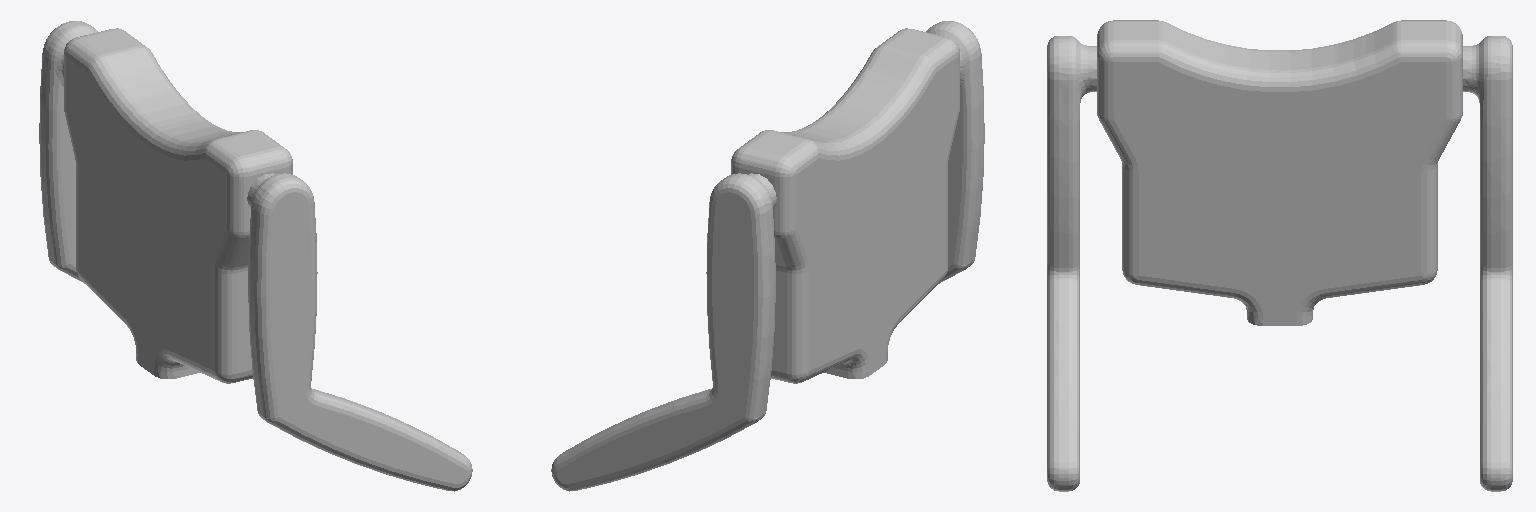
The robot description file, URDF, robot "bolt_humanoid":
<?xml version="1.0" ?>
<!-- =================================================================================== -->
<!-- |    This document was autogenerated by xacro from /tmp/pip-req-build-ylxi0jvw/src/robot_properties_bolt/resources/xacro/bolt_humanoid.urdf.xacro | -->
<!-- |    EDITING THIS FILE BY HAND IS NOT RECOMMENDED                                 | -->
<!-- =================================================================================== -->
<robot name="bolt_humanoid" xmlns:controller="http://playerstage.sourceforge.net/gazebo/xmlschema/#controller" xmlns:interface="http://playerstage.sourceforge.net/gazebo/xmlschema/#interface" xmlns:sensor="http://playerstage.sourceforge.net/gazebo/xmlschema/#sensor" xmlns:xacro="http://playerstage.sourceforge.net/gazebo/xmlschema/#interface">
  <link name="base_link">
    <!-- BASE LINK INERTIAL -->
    <inertial>
      <origin rpy="0 0 0" xyz="0 0 0"/>
      <mass value="0.61436936"/>
      <!-- The base is extremely symmetrical. -->
      <inertia ixx="0.00578574" ixy="0.0" ixz="0.0" iyy="0.01938108" iyz="0.0" izz="0.02476124"/>
    </inertial>
    <!-- BASE LINK VISUAL -->
    <visual>
      <origin rpy="0 0 0" xyz="0 0 0"/>
      <geometry>
        <mesh filename="robots/bolt/bolt_description/meshes/stl/bolt_body.stl"/>
      </geometry>
      <material name="grey">
        <color rgba="0.8 0.8 0.8 1.0"/>
      </material>
    </visual>
    <!-- BASE LINK COLLISION -->
    <collision>
      <origin rpy="0 0 0" xyz="0 0 0"/>
      <geometry>
        <mesh filename="robots/bolt/bolt_description/meshes/stl/bolt_body.stl"/>
      </geometry>
      <material name="grey">
        <color rgba="0.8 0.8 0.8 1.0"/>
      </material>
    </collision>
    <!-- Bullet specific paramters -->
    <contact>
      <lateral_friction value="1.0"/>
      <restitution value="0.5"/>
    </contact>
  </link>
  <!-- END BASE LINK -->
  <!-- WAIST link  -->
  <joint name="WR" type="revolute">
    <parent link="base_link"/>
    <child link="WAIST"/>
    <limit effort="1000" lower="-10" upper="10" velocity="1000"/>
    <!-- joints rotates around the z-axis -->
    <axis xyz="0 0 1"/>
    <!-- placement of the joint -->
    <origin rpy="0 0 0" xyz="0 0 0.076"/>
    <!-- pybullet simulation parameters -->
    <dynamics damping="0.0" friction="0.0"/>
  </joint>
  <link name="WAIST">
    <inertial>
      <!-- WAIST inertia -->
      <mass value="0.73260731"/>
      <origin rpy="0 0 0" xyz="-0.00013236 0.00599242 0.10576667"/>
      <inertia ixx="0.10576667" ixy="0.00000024" ixz="-0.00000150" iyy="0.00138427" iyz="-0.00019152" izz="0.00249732"/>
    </inertial>
    <!-- WAIST LINK VISUAL -->
    <visual>
      <origin rpy="0 0 0" xyz="0 0 0"/>
      <geometry>
        <mesh filename="robots/bolt/bolt_description/meshes/stl/bolt_waist.stl"/>
      </geometry>
      <material name="grey">
        <color rgba="0.8 0.8 0.8 1.0"/>
      </material>
    </visual>
    <!-- WAIST LINK COLLISION -->
    <collision>
      <origin rpy="0 0 0" xyz="0 0 0"/>
      <geometry>
        <mesh filename="robots/bolt/bolt_description/meshes/stl/bolt_waist.stl"/>
      </geometry>
      <material name="grey">
        <color rgba="0.8 0.8 0.8 1.0"/>
      </material>
    </collision>
    <!-- Bullet specific paramters -->
    <contact>
      <lateral_friction value=".0"/>
      <restitution value="0."/>
    </contact>
  </link>
  <!-- These are absolute distance value, the sign are decided below -->
  <!-- SFE is shoulder flexion-extension -->
  <joint name="L_SFE" type="revolute">
    <parent link="WAIST"/>
    <child link="L_ARM"/>
    <limit effort="1000" lower="-10" upper="10" velocity="1000"/>
    <!-- joints rotates around the y-axis -->
    <axis xyz="0 1 0"/>
    <origin rpy="0 0 0" xyz="0 0.11 0.16"/>
    <!-- pybullet simulation parameters -->
    <dynamics damping="0.0" friction="0.0"/>
  </joint>
  <link name="L_ARM">
    <!-- Left arm inertia -->
    <inertial>
      <mass value="0.12897855"/>
      <origin rpy="0 0 0" xyz="0.02610170 0.01954144 -0.10554314"/>
      <inertia ixx="0.00061875" ixy="0.00000154" ixz="-0.00027283" iyy="0.00081765" iyz="-0.00000622" izz="0.00020834"/>
    </inertial>
    <!-- ARM LINK VISUAL -->
    <visual>
      <origin rpy="0 0 0" xyz="0 0 0"/>
      <geometry>
        <mesh filename="robots/bolt/bolt_description/meshes/stl/bolt_shoulder_fe_left_side.stl"/>
      </geometry>
      <material name="grey">
        <color rgba="0.8 0.8 0.8 1.0"/>
      </material>
    </visual>
    <!-- ARM LINK COLLISION -->
    <collision>
      <origin rpy="0 0 0" xyz="0 0 0"/>
      <geometry>
        <mesh filename="robots/bolt/bolt_description/meshes/stl/bolt_shoulder_fe_left_side.stl"/>
      </geometry>
      <material name="grey">
        <color rgba="0.8 0.8 0.8 1.0"/>
      </material>
    </collision>
    <!-- Bullet specific paramters -->
    <contact>
      <lateral_friction value="0.0"/>
      <restitution value="0.0"/>
    </contact>
  </link>
  <!-- END ARM LINK -->
  <joint name="R_SFE" type="revolute">
    <parent link="WAIST"/>
    <child link="R_ARM"/>
    <limit effort="1000" lower="-10" upper="10" velocity="1000"/>
    <!-- joints rotates around the y-axis -->
    <axis xyz="0 1 0"/>
    <origin rpy="0 0 0" xyz="0 -0.11 0.16"/>
    <!-- pybullet simulation parameters -->
    <dynamics damping="0.0" friction="0.0"/>
  </joint>
  <link name="R_ARM">
    <!-- Right arm inertia -->
    <inertial>
      <mass value="0.12897855"/>
      opa
                
      <origin rpy="0 0 0" xyz="0.02610149 -0.01954144 -0.10554335"/>
      <inertia ixx="0.00061875" ixy="-0.00000154" ixz="-0.00027283" iyy="0.00081765" iyz="0.00000622" izz="0.00020834"/>
    </inertial>
    <!-- ARM LINK VISUAL -->
    <visual>
      <origin rpy="0 0 0" xyz="0 0 0"/>
      <geometry>
        <mesh filename="robots/bolt/bolt_description/meshes/stl/bolt_shoulder_fe_right_side.stl"/>
      </geometry>
      <material name="grey">
        <color rgba="0.8 0.8 0.8 1.0"/>
      </material>
    </visual>
    <!-- ARM LINK COLLISION -->
    <collision>
      <origin rpy="0 0 0" xyz="0 0 0"/>
      <geometry>
        <mesh filename="robots/bolt/bolt_description/meshes/stl/bolt_shoulder_fe_right_side.stl"/>
      </geometry>
      <material name="grey">
        <color rgba="0.8 0.8 0.8 1.0"/>
      </material>
    </collision>
    <!-- Bullet specific paramters -->
    <contact>
      <lateral_friction value="0.0"/>
      <restitution value="0.0"/>
    </contact>
  </link>
  <!-- END ARM LINK -->
  <!--xacro:property name="base_2_HAA_x" value="${2.45656 * 0.001}" />
  <xacro:property name="base_2_HAA_y" value="${63.6 * 0.001}" />
  <xacro:property name="base_2_HAA_z" value="${33.0809 * 0.001}" /-->
  <joint name="FL_HAA" type="revolute">
    <parent link="base_link"/>
    <child link="FL_SHOULDER"/>
    <limit effort="1000" lower="-10" upper="10" velocity="1000"/>
    <!-- joints rotates around the x-axis -->
    <axis xyz="1 0 0"/>
    <origin rpy="0 0 0" xyz="0.0 0.0636 0"/>
    <!--xacro:unless value="${is_right}">
        <origin xyz="${base_2_HAA_x} ${base_2_HAA_y + 0.0007888} ${-base_2_HAA_z}" rpy="0 0 0" />
      </xacro:unless>
      <xacro:if value="${is_right}">
        <origin xyz="${base_2_HAA_x} ${-base_2_HAA_y + 0.0007888} ${-base_2_HAA_z}" rpy="0 0 0" />
      </xacro:if-->
    <!-- pybullet simulation parameters -->
    <dynamics damping="0.0" friction="0.0"/>
  </joint>
  <link name="FL_SHOULDER">
    <!-- TODO: Update inertias and add visuals for link. -->
    <!-- create a dummy shoulder link to join the two joints -->
    <inertial>
      <!-- Left upper leg inertia -->
      <mass value="0.14004265"/>
      <origin rpy="0 0 0" xyz="0.01708256 -0.00446892 -0.01095830"/>
      <inertia ixx="0.00007443" ixy="0.00000148" ixz="0.00002154" iyy="0.00013847" iyz="-0.00001096" izz="0.00009002"/>
    </inertial>
    <!-- HIP LEG LINK VISUAL -->
    <visual>
      <origin rpy="0 0 0" xyz="0 0 0"/>
      <geometry>
        <mesh filename="robots/bolt/bolt_description/meshes/stl/bolt_hip_fe_left_side.stl"/>
      </geometry>
      <material name="grey">
        <color rgba="0.8 0.8 0.8 1.0"/>
      </material>
    </visual>
    <!-- UPPER LEG LINK COLLISION -->
    <collision>
      <origin rpy="0 0 0" xyz="0 0 0"/>
      <geometry>
        <mesh filename="robots/bolt/bolt_description/meshes/stl/bolt_hip_fe_left_side.stl"/>
      </geometry>
      <material name="grey">
        <color rgba="0.8 0.8 0.8 1.0"/>
      </material>
    </collision>
    <!-- Bullet specific paramters -->
    <contact>
      <lateral_friction value="1.0"/>
      <restitution value="0.5"/>
    </contact>
  </link>
  <joint name="FL_HFE" type="revolute">
    <parent link="FL_SHOULDER"/>
    <child link="FL_UPPER_LEG"/>
    <limit effort="1000" lower="-10" upper="10" velocity="1000"/>
    <!-- joints rotates around the y-axis -->
    <axis xyz="0 1 0"/>
    <origin rpy="0 0 0" xyz="0 0.0145 -0.0386"/>
    <!-- pybullet simulation parameters -->
    <dynamics damping="0.0" friction="0.0"/>
  </joint>
  <link name="FL_UPPER_LEG">
    <!-- Left upper leg inertia -->
    <inertial>
      <origin rpy="0 0 0" xyz="0.00001377 0.01935853 -0.11870700"/>
      <mass value="0.14853845"/>
      <inertia ixx="0.00041107" ixy="0.00000000" ixz="0.00000009" iyy="0.00041193" iyz="-0.00004671" izz="0.00003024"/>
    </inertial>
    <!-- UPPER LEG LINK VISUAL -->
    <visual>
      <origin rpy="0 0 0" xyz="0 0 0"/>
      <geometry>
        <mesh filename="robots/bolt/bolt_description/meshes/stl/upper_leg_200mm_left_side.stl"/>
      </geometry>
      <material name="grey">
        <color rgba="0.8 0.8 0.8 1.0"/>
      </material>
    </visual>
    <!-- UPPER LEG LINK COLLISION -->
    <collision>
      <origin rpy="0 0 0" xyz="0 0 0"/>
      <geometry>
        <mesh filename="robots/bolt/bolt_description/meshes/stl/upper_leg_200mm_left_side.stl"/>
      </geometry>
      <material name="grey">
        <color rgba="0.8 0.8 0.8 1.0"/>
      </material>
    </collision>
    <!-- Bullet specific paramters -->
    <contact>
      <lateral_friction value="1.0"/>
      <restitution value="0.5"/>
    </contact>
  </link>
  <!-- END UPPER LEG LINK -->
  <!-- KFE: Joint between the upper leg and the lower leg -->
  <joint name="FL_KFE" type="revolute">
    <parent link="FL_UPPER_LEG"/>
    <child link="FL_LOWER_LEG"/>
    <limit effort="1000" lower="-10" upper="10" velocity="1000"/>
    <!-- joints rotates around the y-axis -->
    <axis xyz="0 1 0"/>
    <origin rpy="0 0 0" xyz="0 0.0374 -0.2"/>
    <!-- pybullet simulation parameters -->
    <dynamics damping="0.0" friction="0.0"/>
  </joint>
  <link name="FL_LOWER_LEG">
    <!-- Left lower leg inertia -->
    <inertial>
      <origin rpy="0 0 0" xyz="0.0 0.00836718 -0.11591877"/>
      <mass value="0.03117243"/>
      <inertia ixx="0.00011487" ixy="0.00000000" ixz="0.00000000" iyy="0.00011556" iyz="-0.00000190" izz="0.00000220"/>
    </inertial>
    <!-- LOWER LEG LINK VISUAL -->
    <visual>
      <origin rpy="0 0 0" xyz="0 0 0"/>
      <geometry>
        <mesh filename="robots/bolt/bolt_description/meshes/stl/lower_leg_200mm_left_side.stl"/>
      </geometry>
      <material name="grey">
        <color rgba="0.8 0.8 0.8 1.0"/>
      </material>
    </visual>
    <!-- LOWER LEG LINK COLLISION -->
    <collision>
      <origin rpy="0 0 0" xyz="0 0 0"/>
      <geometry>
        <mesh filename="robots/bolt/bolt_description/meshes/stl/lower_leg_200mm_left_side.stl"/>
      </geometry>
      <material name="grey">
        <color rgba="0.8 0.8 0.8 1.0"/>
      </material>
    </collision>
    <!-- Bullet specific paramters -->
    <contact>
      <lateral_friction value="1.0"/>
      <restitution value="0.5"/>
    </contact>
  </link>
  <!-- END LOWER LEG LINK -->
  <!-- ANKLE: Joint between the lower leg and the foot -->
  <joint name="FL_ANKLE" type="fixed">
    <parent link="FL_LOWER_LEG"/>
    <child link="FL_FOOT"/>
    <origin rpy="0 0 0" xyz="0 0.008 -0.2"/>
    <!-- joints rotates around the y-axis -->
    <axis xyz="0 1 0"/>
    <!-- Limits (usefull?) -->
    <limit effort="1000" lower="-10" upper="10" velocity="1000"/>
    <!-- pybullet simulation parameters -->
    <dynamics damping="0.0" friction="0.0"/>
  </joint>
  <link name="FL_FOOT">
    <!-- FOOT INERTIAL -->
    <!-- This link is symmetrical left or right -->
    <inertial>
      <origin rpy="0 0 0" xyz="0 0 0.00035767"/>
      <mass value="0.00010"/>
      <inertia ixx="0.00000057" ixy="0.0" ixz="0.0" iyy="0.00000084" iyz="0.0" izz="0.00000053"/>
    </inertial>
    <!-- FOOT VISUAL -->
    <visual>
      <origin rpy="0 2.35 0." xyz="0 0 -0.01"/>
      <geometry>
        <mesh filename="robots/bolt/bolt_description/meshes/stl/bolt_foot.stl"/>
      </geometry>
      <material name="grey">
        <color rgba="0.8 0.8 0.8 1.0"/>
      </material>
    </visual>
    <!-- FOOT COLLISION -->
    <collision>
      <origin rpy="0 2.35 0." xyz="0 0 -0.01"/>
      <geometry>
        <mesh filename="robots/bolt/bolt_description/meshes/stl/bolt_foot.stl"/>
      </geometry>
      <material name="grey">
        <color rgba="0.8 0.8 0.8 1.0"/>
      </material>
    </collision>
    <!-- Bullet specific paramters -->
    <contact>
      <lateral_friction value="4.0"/>
      <restitution value="0.0"/>
    </contact>
  </link>
  <!-- END FOOT LINK -->
  <joint name="FR_HAA" type="revolute">
    <parent link="base_link"/>
    <child link="FR_SHOULDER"/>
    <limit effort="1000" lower="-10" upper="10" velocity="1000"/>
    <!-- joints rotates around the x-axis -->
    <axis xyz="1 0 0"/>
    <origin rpy="0 0 0" xyz="0.0 -0.0636 0"/>
    <!--xacro:unless value="${is_right}">
        <origin xyz="${base_2_HAA_x} ${base_2_HAA_y + 0.0007888} ${-base_2_HAA_z}" rpy="0 0 0" />
      </xacro:unless>
      <xacro:if value="${is_right}">
        <origin xyz="${base_2_HAA_x} ${-base_2_HAA_y + 0.0007888} ${-base_2_HAA_z}" rpy="0 0 0" />
      </xacro:if-->
    <!-- pybullet simulation parameters -->
    <dynamics damping="0.0" friction="0.0"/>
  </joint>
  <link name="FR_SHOULDER">
    <!-- TODO: Update inertias and add visuals for link. -->
    <!-- create a dummy shoulder link to join the two joints -->
    <inertial>
      <!-- Right upper leg inertia -->
      <mass value="0.14004412"/>
      <origin rpy="0 0 0" xyz="0.01708233 0.00447099 -0.01095846"/>
      <inertia ixx="0.00007442" ixy="-0.00000148" ixz="0.00002154" iyy="0.00013848" iyz="0.00001095" izz="0.00009001"/>
    </inertial>
    <!-- HIP LEG LINK VISUAL -->
    <visual>
      <origin rpy="0 0 0" xyz="0 0 0"/>
      <geometry>
        <mesh filename="robots/bolt/bolt_description/meshes/stl/bolt_hip_fe_right_side.stl"/>
      </geometry>
      <material name="grey">
        <color rgba="0.8 0.8 0.8 1.0"/>
      </material>
    </visual>
    <!-- UPPER LEG LINK COLLISION -->
    <collision>
      <origin rpy="0 0 0" xyz="0 0 0"/>
      <geometry>
        <mesh filename="robots/bolt/bolt_description/meshes/stl/bolt_hip_fe_right_side.stl"/>
      </geometry>
      <material name="grey">
        <color rgba="0.8 0.8 0.8 1.0"/>
      </material>
    </collision>
    <!-- Bullet specific paramters -->
    <contact>
      <lateral_friction value="1.0"/>
      <restitution value="0.5"/>
    </contact>
  </link>
  <joint name="FR_HFE" type="revolute">
    <parent link="FR_SHOULDER"/>
    <child link="FR_UPPER_LEG"/>
    <limit effort="1000" lower="-10" upper="10" velocity="1000"/>
    <!-- joints rotates around the y-axis -->
    <axis xyz="0 1 0"/>
    <origin rpy="0 0 0" xyz="0 -0.0145 -0.0386"/>
    <!-- pybullet simulation parameters -->
    <dynamics damping="0.0" friction="0.0"/>
  </joint>
  <link name="FR_UPPER_LEG">
    <!-- Right upper leg inertia -->
    <inertial>
      <origin rpy="0 0 0" xyz="-0.00001377 -0.01935853 -0.11870700"/>
      <mass value="0.14853845"/>
      <inertia ixx="0.00041107" ixy="0.00000000" ixz="-0.00000009" iyy="0.00041193" iyz="0.00004671" izz="0.00003024"/>
    </inertial>
    <!-- UPPER LEG LINK VISUAL -->
    <visual>
      <origin rpy="0 0 0" xyz="0 0 0"/>
      <geometry>
        <mesh filename="robots/bolt/bolt_description/meshes/stl/upper_leg_200mm_right_side.stl"/>
      </geometry>
      <material name="grey">
        <color rgba="0.8 0.8 0.8 1.0"/>
      </material>
    </visual>
    <!-- UPPER LEG LINK COLLISION -->
    <collision>
      <origin rpy="0 0 0" xyz="0 0 0"/>
      <geometry>
        <mesh filename="robots/bolt/bolt_description/meshes/stl/upper_leg_200mm_right_side.stl"/>
      </geometry>
      <material name="grey">
        <color rgba="0.8 0.8 0.8 1.0"/>
      </material>
    </collision>
    <!-- Bullet specific paramters -->
    <contact>
      <lateral_friction value="1.0"/>
      <restitution value="0.5"/>
    </contact>
  </link>
  <!-- END UPPER LEG LINK -->
  <!-- KFE: Joint between the upper leg and the lower leg -->
  <joint name="FR_KFE" type="revolute">
    <parent link="FR_UPPER_LEG"/>
    <child link="FR_LOWER_LEG"/>
    <limit effort="1000" lower="-10" upper="10" velocity="1000"/>
    <!-- joints rotates around the y-axis -->
    <axis xyz="0 1 0"/>
    <origin rpy="0 0 0" xyz="0 -0.0374 -0.2"/>
    <!-- pybullet simulation parameters -->
    <dynamics damping="0.0" friction="0.0"/>
  </joint>
  <link name="FR_LOWER_LEG">
    <!-- Right lower leg inertia -->
    <inertial>
      <origin rpy="0 0 0" xyz="0.0 -0.00836718 -0.11591877"/>
      <mass value="0.03117243"/>
      <inertia ixx="0.00011487" ixy="0.00000000" ixz="0.00000000" iyy="0.00011556" iyz="0.00000190" izz="0.00000220"/>
    </inertial>
    <!-- LOWER LEG LINK VISUAL -->
    <visual>
      <origin rpy="0 0 0" xyz="0 0 0"/>
      <geometry>
        <mesh filename="robots/bolt/bolt_description/meshes/stl/lower_leg_200mm_right_side.stl"/>
      </geometry>
      <material name="grey">
        <color rgba="0.8 0.8 0.8 1.0"/>
      </material>
    </visual>
    <!-- LOWER LEG LINK COLLISION -->
    <collision>
      <origin rpy="0 0 0" xyz="0 0 0"/>
      <geometry>
        <mesh filename="robots/bolt/bolt_description/meshes/stl/lower_leg_200mm_right_side.stl"/>
      </geometry>
      <material name="grey">
        <color rgba="0.8 0.8 0.8 1.0"/>
      </material>
    </collision>
    <!-- Bullet specific paramters -->
    <contact>
      <lateral_friction value="1.0"/>
      <restitution value="0.5"/>
    </contact>
  </link>
  <!-- END LOWER LEG LINK -->
  <!-- ANKLE: Joint between the lower leg and the foot -->
  <joint name="FR_ANKLE" type="fixed">
    <parent link="FR_LOWER_LEG"/>
    <child link="FR_FOOT"/>
    <origin rpy="0 0 0" xyz="0 -0.008 -0.2"/>
    <!-- joints rotates around the y-axis -->
    <axis xyz="0 1 0"/>
    <!-- Limits (usefull?) -->
    <limit effort="1000" lower="-10" upper="10" velocity="1000"/>
    <!-- pybullet simulation parameters -->
    <dynamics damping="0.0" friction="0.0"/>
  </joint>
  <link name="FR_FOOT">
    <!-- FOOT INERTIAL -->
    <!-- This link is symmetrical left or right -->
    <inertial>
      <origin rpy="0 0 0" xyz="0 0 0.00035767"/>
      <mass value="0.00010"/>
      <inertia ixx="0.00000057" ixy="0.0" ixz="0.0" iyy="0.00000084" iyz="0.0" izz="0.00000053"/>
    </inertial>
    <!-- FOOT VISUAL -->
    <visual>
      <origin rpy="0 2.35 0." xyz="0 0 -0.01"/>
      <geometry>
        <mesh filename="robots/bolt/bolt_description/meshes/stl/bolt_foot.stl"/>
      </geometry>
      <material name="grey">
        <color rgba="0.8 0.8 0.8 1.0"/>
      </material>
    </visual>
    <!-- FOOT COLLISION -->
    <collision>
      <origin rpy="0 2.35 0." xyz="0 0 -0.01"/>
      <geometry>
        <mesh filename="robots/bolt/bolt_description/meshes/stl/bolt_foot.stl"/>
      </geometry>
      <material name="grey">
        <color rgba="0.8 0.8 0.8 1.0"/>
      </material>
    </collision>
    <!-- Bullet specific paramters -->
    <contact>
      <lateral_friction value="4.0"/>
      <restitution value="0.0"/>
    </contact>
  </link>
  <!-- END FOOT LINK -->
</robot>

--- What the picture shows (computed from the rendered views, not written in the file) ---
Views: 3 orthographic renders of the robot side by side, from view 1: azimuth 30°, elevation 25°; view 2: azimuth 150°, elevation 25°; view 3: azimuth 270°, elevation 25°.
Robot: bolt_humanoid — 12 links, 11 joints (9 revolute, 2 fixed); root link base_link; default pose: every joint at zero.
Links seen in each view (by area): view 1: WAIST, R_ARM, L_ARM; view 2: WAIST, L_ARM, R_ARM; view 3: WAIST, L_ARM, R_ARM.
Boxes of the visible links, bbox=[...] form: WAIST: bbox=[64, 28, 292, 383]; R_ARM: bbox=[247, 173, 472, 491]; L_ARM: bbox=[39, 21, 97, 283]; WAIST: bbox=[731, 28, 959, 383]; L_ARM: bbox=[551, 173, 776, 491]; R_ARM: bbox=[926, 21, 984, 283]; WAIST: bbox=[1097, 20, 1462, 325]; L_ARM: bbox=[1463, 36, 1512, 491]; R_ARM: bbox=[1047, 36, 1096, 491].
Bounding box of the posed robot: 0.1567 × 0.28 × 0.2475 m (x, y, z).
Meshes: 11 distinct files referenced, 3 mesh visuals loaded (3 binary STL); not drawn: 9 (reference not matched to a file when rendering).